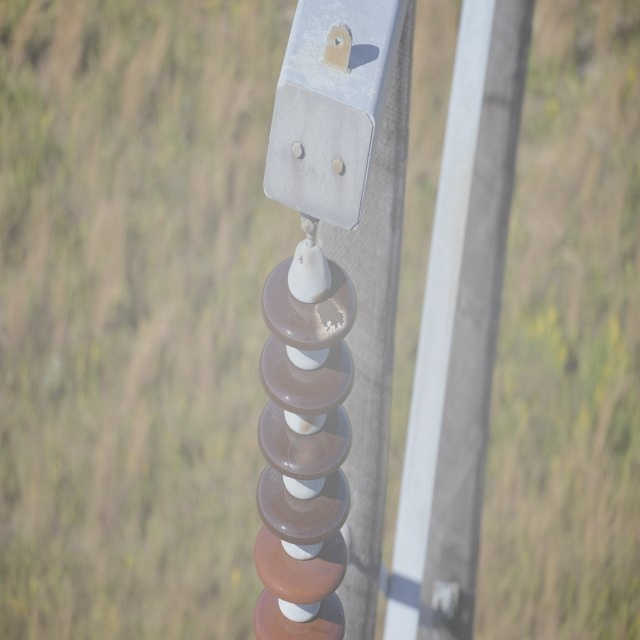insulator: (254, 255, 356, 640)
